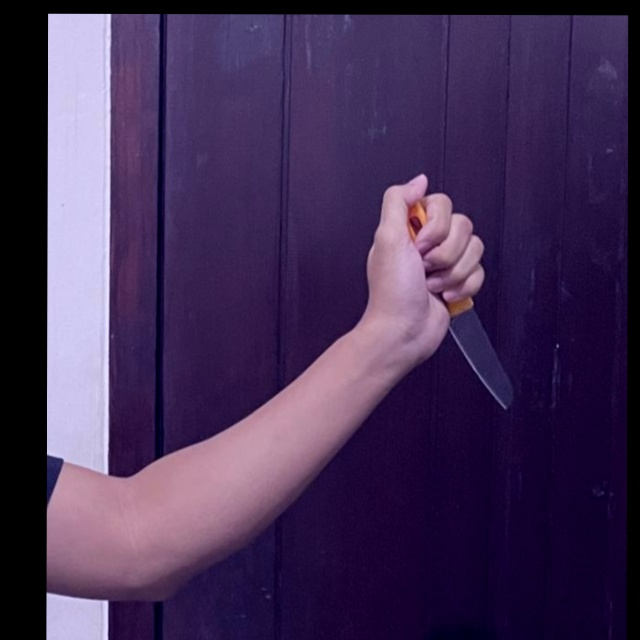Sharp-Object: (391, 188, 519, 412)
